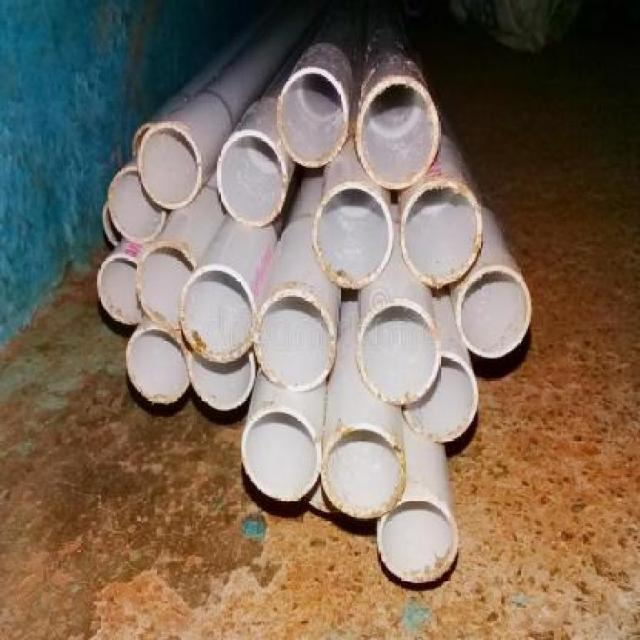pipe: (356, 77, 440, 190), (357, 299, 441, 405), (400, 179, 482, 286), (314, 182, 394, 289), (254, 289, 336, 392), (322, 423, 406, 518), (242, 406, 321, 501), (180, 265, 257, 362), (277, 68, 348, 168), (457, 266, 532, 359), (403, 351, 478, 444), (379, 499, 459, 584), (217, 129, 287, 226), (138, 123, 200, 210), (135, 243, 192, 330), (126, 328, 190, 405), (188, 345, 256, 411), (109, 166, 166, 242), (97, 254, 144, 324)
